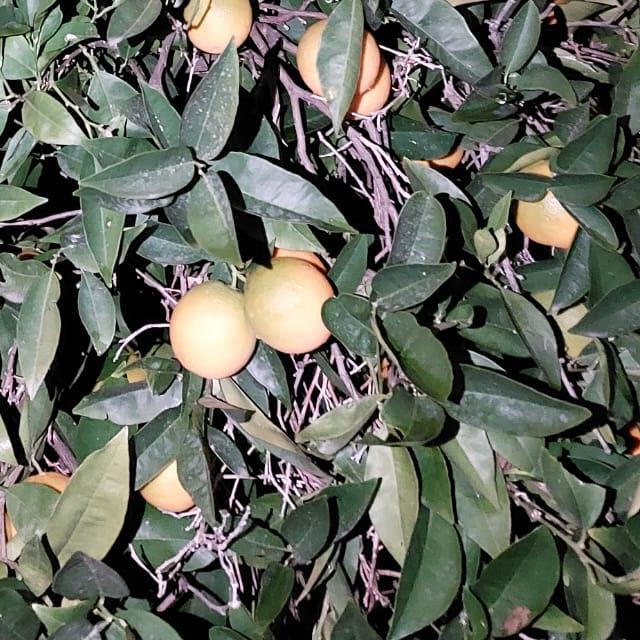orange: (243, 251, 339, 355), (168, 284, 258, 378), (508, 152, 588, 250), (295, 21, 379, 91), (174, 0, 256, 51), (135, 455, 197, 509)
